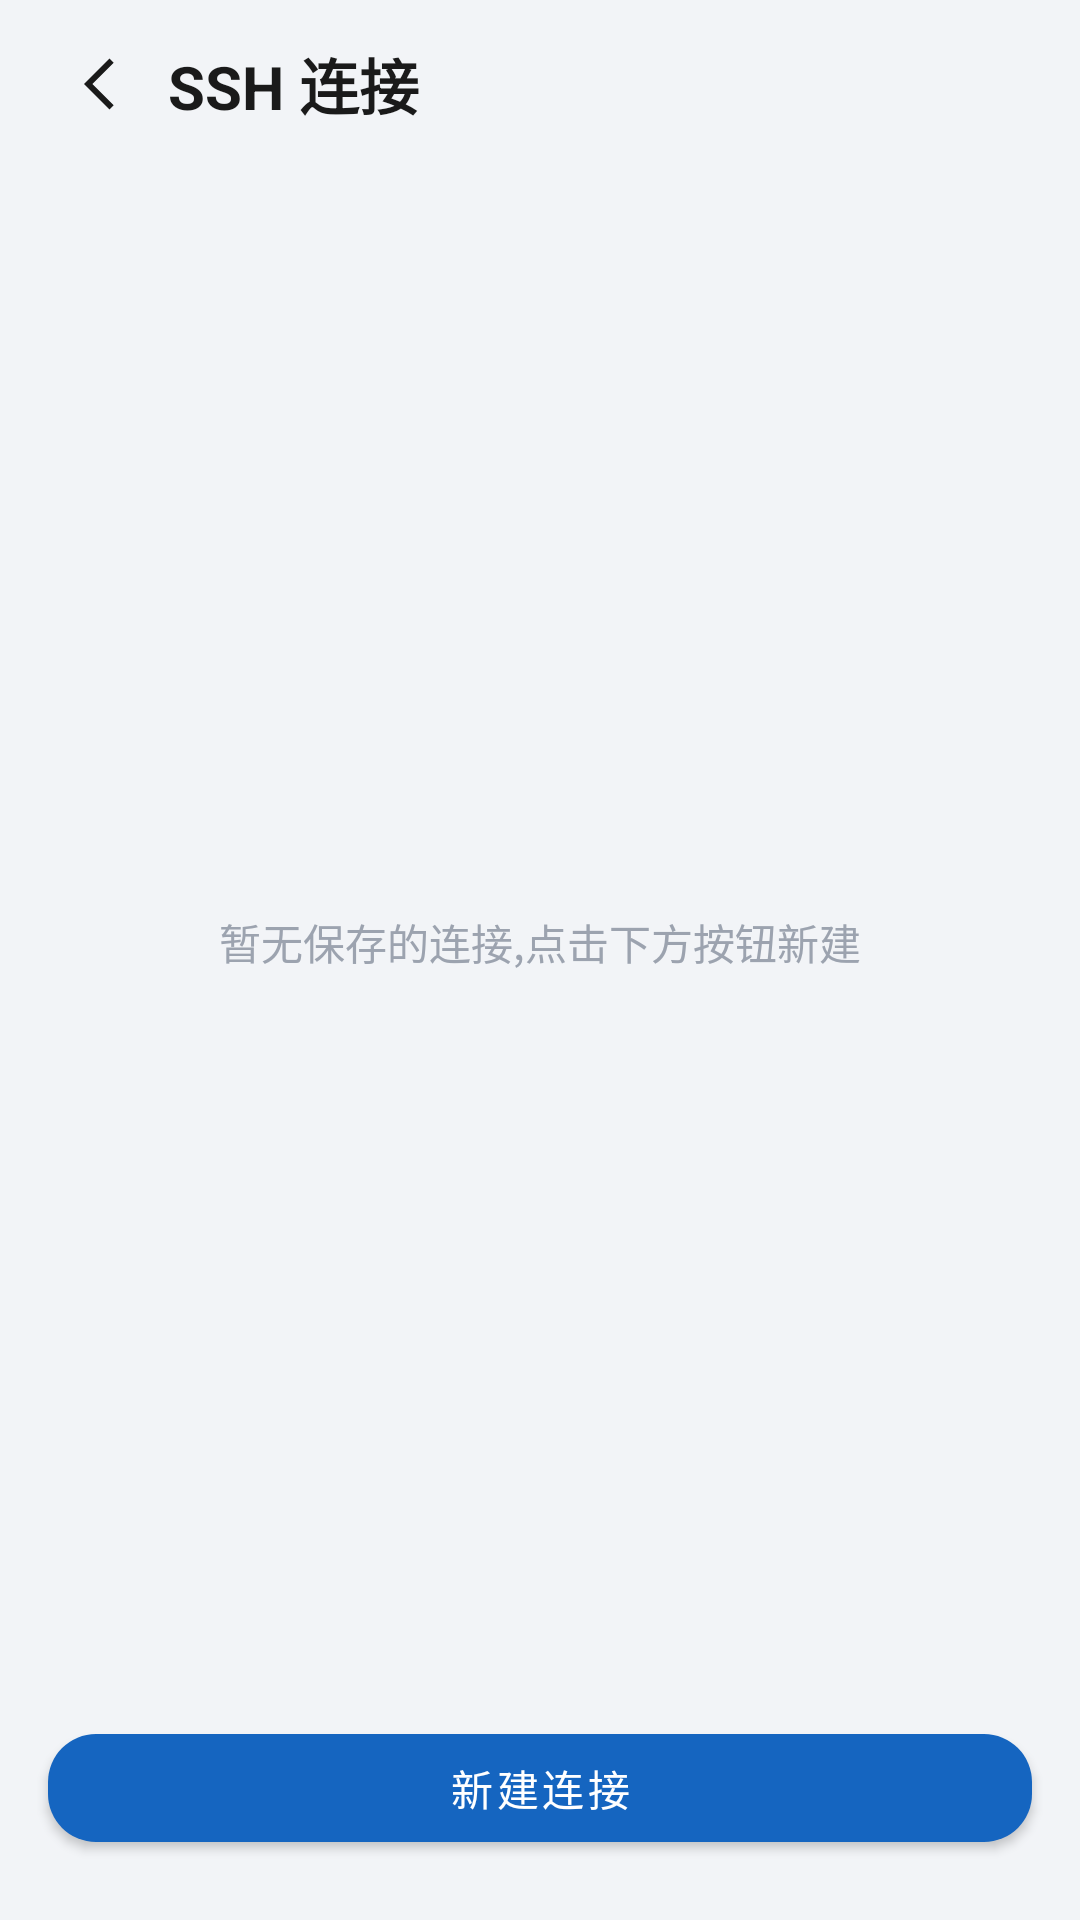

Locate icon controls on the screen. Image size 1080px×1920px, boxes as box(x1, y1, x2, y2).
返回: box(84, 58, 114, 110)
